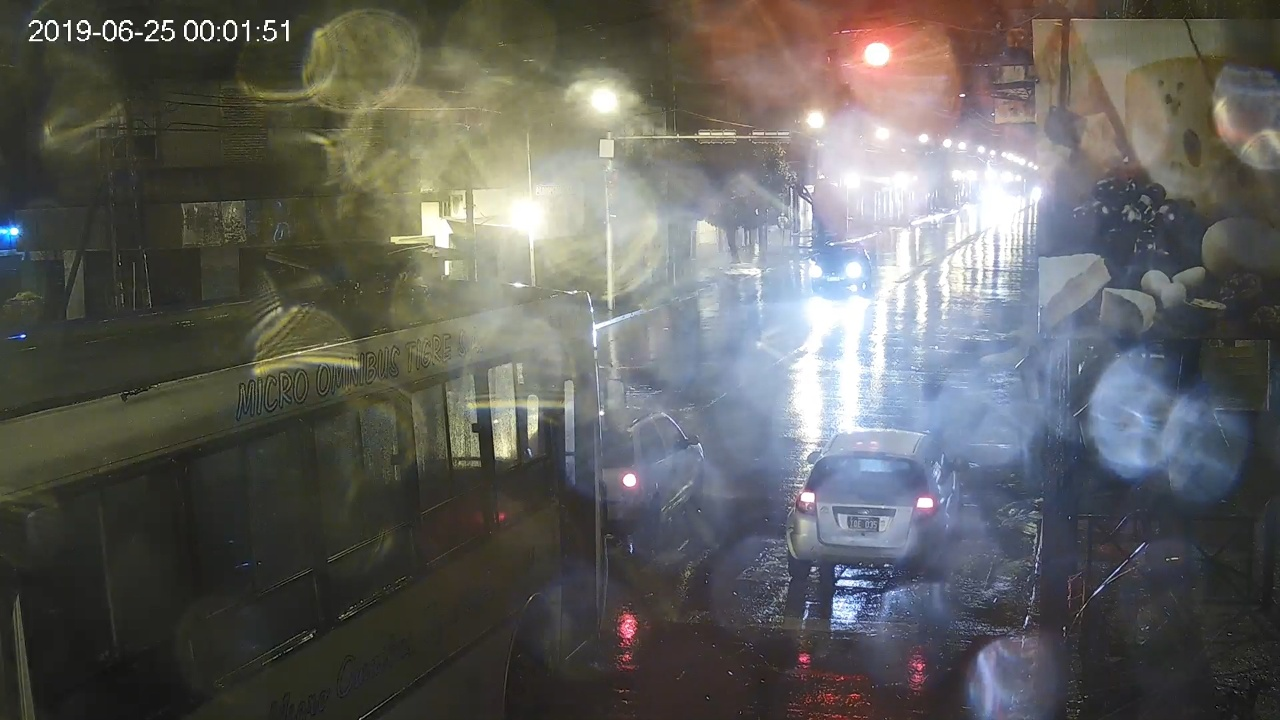bus: (1, 277, 628, 720)
car: (787, 431, 969, 581)
